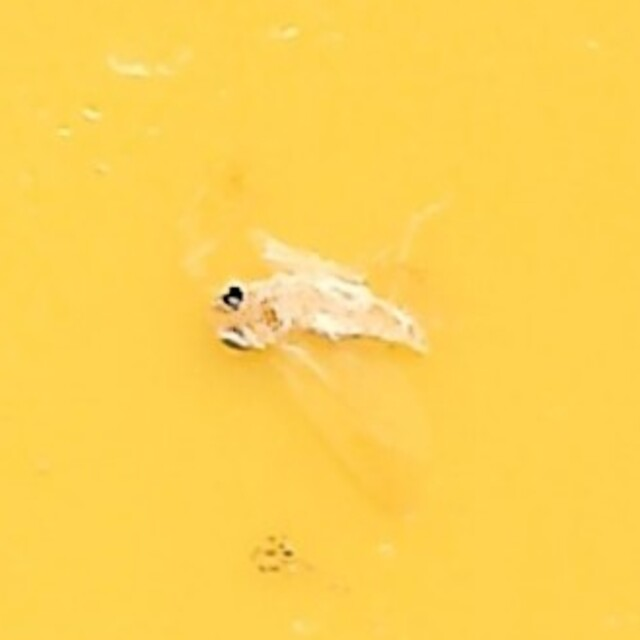Hemiptera: (195, 234, 445, 406)
